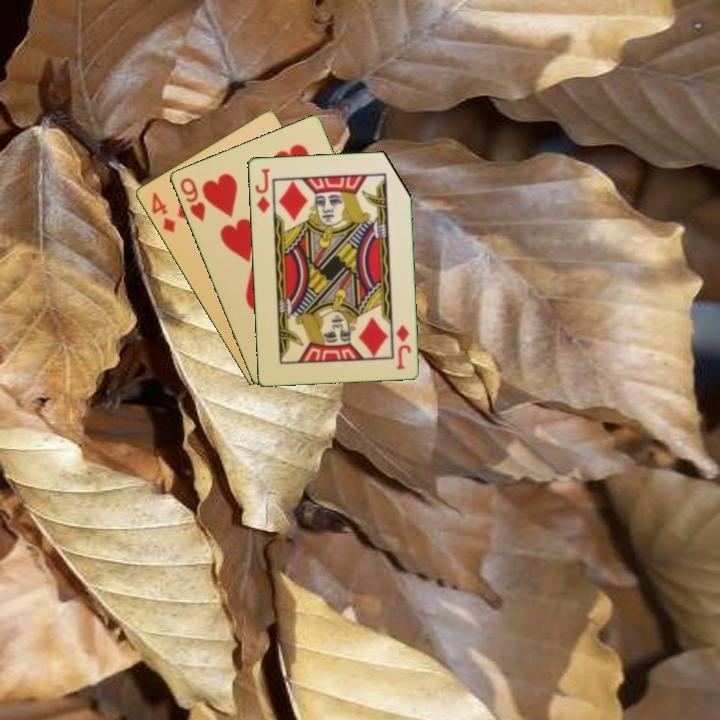4d: (148, 188, 178, 236)
9h: (176, 174, 208, 224)
Jd: (251, 165, 273, 216), (392, 321, 414, 372)
